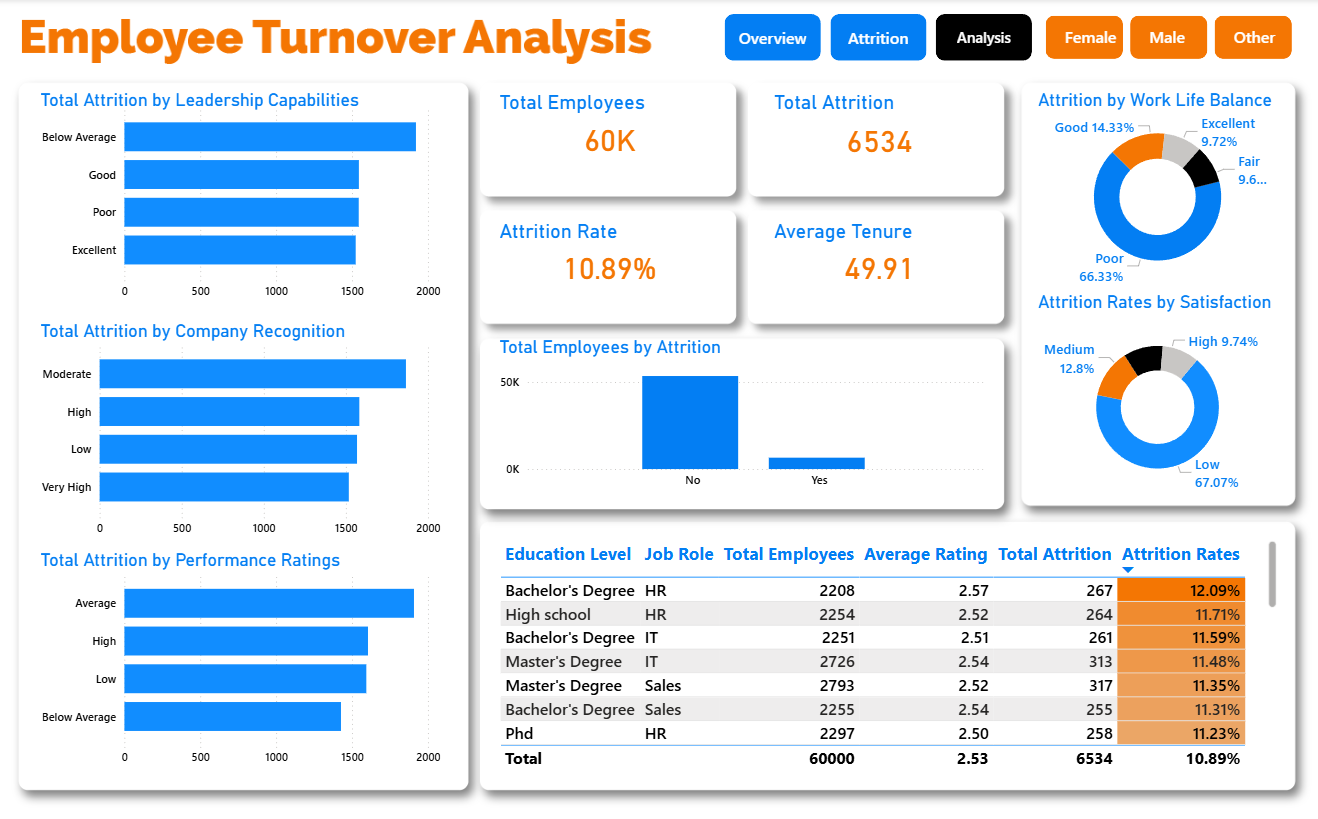

This screenshot's page, from the dashboard's own definition file:
{"tool":"powerbi","page":{"name":" Analysis ","canvas":[1440,900],"ordinal":2},"visuals":[{"type":"card","fields":{"Values":["public employee_attrition_dataset.total_employee"]},"box":[542.9,108.2,249.5,86.2],"z":0},{"type":"card","fields":{"Values":["public employee_attrition_dataset.total_attrition"]},"box":[841.5,103.9,238.5,95.4],"z":1000},{"type":"card","fields":{"Values":["public employee_attrition_dataset.attrition_rate"]},"box":[543.4,243.6,248.7,95.4],"z":2000},{"type":"card","fields":{"Values":["public employee_attrition_dataset.avg_tenure"]},"box":[841.5,243.6,238.5,95.4],"z":3000},{"type":"textbox","box":[542.9,95.4,249.5,56.9],"z":4000},{"type":"textbox","box":[841.9,95.4,238.5,56.9],"z":5000},{"type":"textbox","box":[542.9,234.8,249.5,56.9],"z":6000},{"type":"textbox","box":[841.9,234.8,238.5,56.9],"z":7000},{"type":"advancedSlicerVisual","fields":{"Values":["public employee_attrition_dataset.Gender"]},"box":[1136.9,13,278.2,57.5],"z":8000},{"type":"pageNavigator","box":[791.9,16.7,337.5,51.9],"z":9000},{"type":"tableEx","fields":{"Values":["public employee_attrition_dataset.Education Level","public employee_attrition_dataset.Job Role","public employee_attrition_dataset.total_employee","Avg(public employee_attrition_dataset.Performance Rating)","public employee_attrition_dataset.total_attrition","public employee_attrition_dataset.attrition_rate"]},"box":[542.9,585.1,856.6,258.6],"z":10000},{"type":"clusteredColumnChart","fields":{"Category":["public employee_attrition_dataset.Attrition"],"Y":["public employee_attrition_dataset.total_employee"]},"box":[542.9,383.4,537.4,157.7],"z":11000},{"type":"donutChart","fields":{"Y":["public employee_attrition_dataset.total_attrition"],"Category":["public employee_attrition_dataset.Work-Life Balance Label"]},"box":[1129.9,113.7,269.6,201.8],"z":12000},{"type":"donutChart","fields":{"Y":["public employee_attrition_dataset.attrition_rate"],"Category":["public employee_attrition_dataset.Job Satisfaction Label"]},"box":[1129.9,348.5,269.6,192.6],"z":13000},{"type":"textbox","box":[1129.9,313.7,284.3,40.4],"z":14000},{"type":"textbox","box":[542.9,363.2,497.1,40.4],"z":15000},{"type":"textbox","box":[1129.9,93.5,271.5,34.9],"z":16000},{"type":"textbox","box":[42.2,93.5,427.4,38.5],"z":17000},{"type":"clusteredBarChart","fields":{"Category":["public employee_attrition_dataset.Leadership Label"],"Y":["public employee_attrition_dataset.total_attrition"]},"box":[42.2,104.6,445.7,231.1],"z":18000},{"type":"clusteredBarChart","fields":{"Y":["public employee_attrition_dataset.total_attrition"],"Category":["public employee_attrition_dataset.Performance Rating Label"]},"box":[42.2,612.6,445.7,231.1],"z":19000},{"type":"clusteredBarChart","fields":{"Category":["public employee_attrition_dataset.Recognition Label"],"Y":["public employee_attrition_dataset.total_attrition"]},"box":[42.2,363.2,445.7,231.1],"z":20000},{"type":"textbox","box":[42.2,594.3,427.4,38.5],"z":21000},{"type":"textbox","box":[42.2,344.8,427.4,38.5],"z":22000}]}

Visuals, with their boxes in screenshot pixels (x1, y1, x2, y2), scaled from the page's 1440x900 canvas onto the 1318x819 screenshot:
card - public employee_attrition_dataset.total_employee: left=497, top=98, right=725, bottom=177
card - public employee_attrition_dataset.total_attrition: left=770, top=95, right=988, bottom=181
card - public employee_attrition_dataset.attrition_rate: left=497, top=222, right=725, bottom=308
card - public employee_attrition_dataset.avg_tenure: left=770, top=222, right=988, bottom=308
textbox: left=497, top=87, right=725, bottom=139
textbox: left=771, top=87, right=989, bottom=139
textbox: left=497, top=214, right=725, bottom=265
textbox: left=771, top=214, right=989, bottom=265
advancedSlicerVisual - public employee_attrition_dataset.Gender: left=1041, top=12, right=1295, bottom=64
pageNavigator: left=725, top=15, right=1034, bottom=62
tableEx - public employee_attrition_dataset.Education Level x public employee_attrition_dataset.Job Role: left=497, top=532, right=1281, bottom=768
clusteredColumnChart - public employee_attrition_dataset.Attrition x public employee_attrition_dataset.total_employee: left=497, top=349, right=989, bottom=492
donutChart - public employee_attrition_dataset.total_attrition x public employee_attrition_dataset.Work-Life Balance Label: left=1034, top=103, right=1281, bottom=287
donutChart - public employee_attrition_dataset.attrition_rate x public employee_attrition_dataset.Job Satisfaction Label: left=1034, top=317, right=1281, bottom=492
textbox: left=1034, top=285, right=1294, bottom=322
textbox: left=497, top=331, right=952, bottom=367
textbox: left=1034, top=85, right=1283, bottom=117
textbox: left=39, top=85, right=430, bottom=120
clusteredBarChart - public employee_attrition_dataset.Leadership Label x public employee_attrition_dataset.total_attrition: left=39, top=95, right=447, bottom=305
clusteredBarChart - public employee_attrition_dataset.total_attrition x public employee_attrition_dataset.Performance Rating Label: left=39, top=557, right=447, bottom=768
clusteredBarChart - public employee_attrition_dataset.Recognition Label x public employee_attrition_dataset.total_attrition: left=39, top=331, right=447, bottom=541
textbox: left=39, top=541, right=430, bottom=576
textbox: left=39, top=314, right=430, bottom=349
